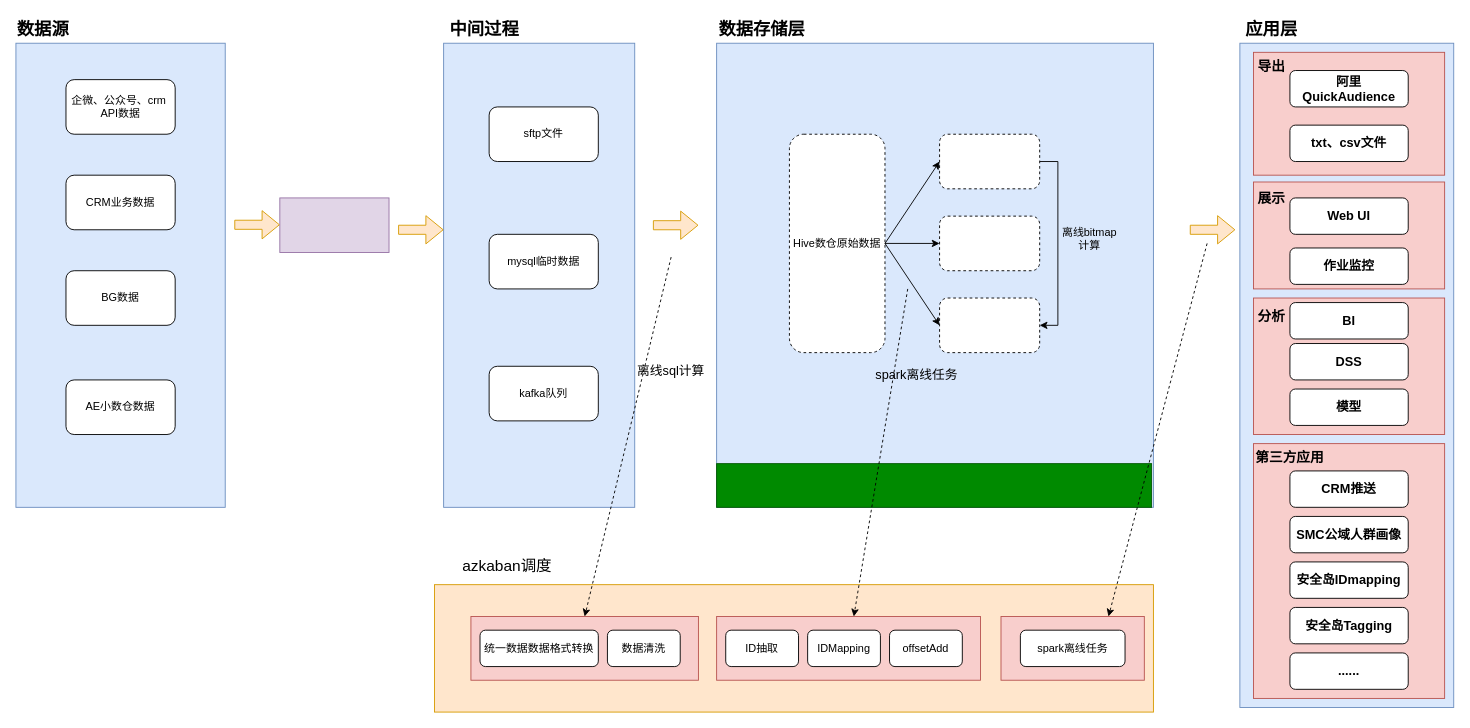
Image size: 1470x728. Some labels were removed from this diagram. The centre of each missing label's shape, as x and y in pixels:
hadoop大数据集群: [934,485]
人群/标签bitMap (Hbase/Mysql): [989,161]
数据提取服务: [334,225]
用户档案 （Hbase）: [989,243]
统计指标 （Mysql）: [989,325]
